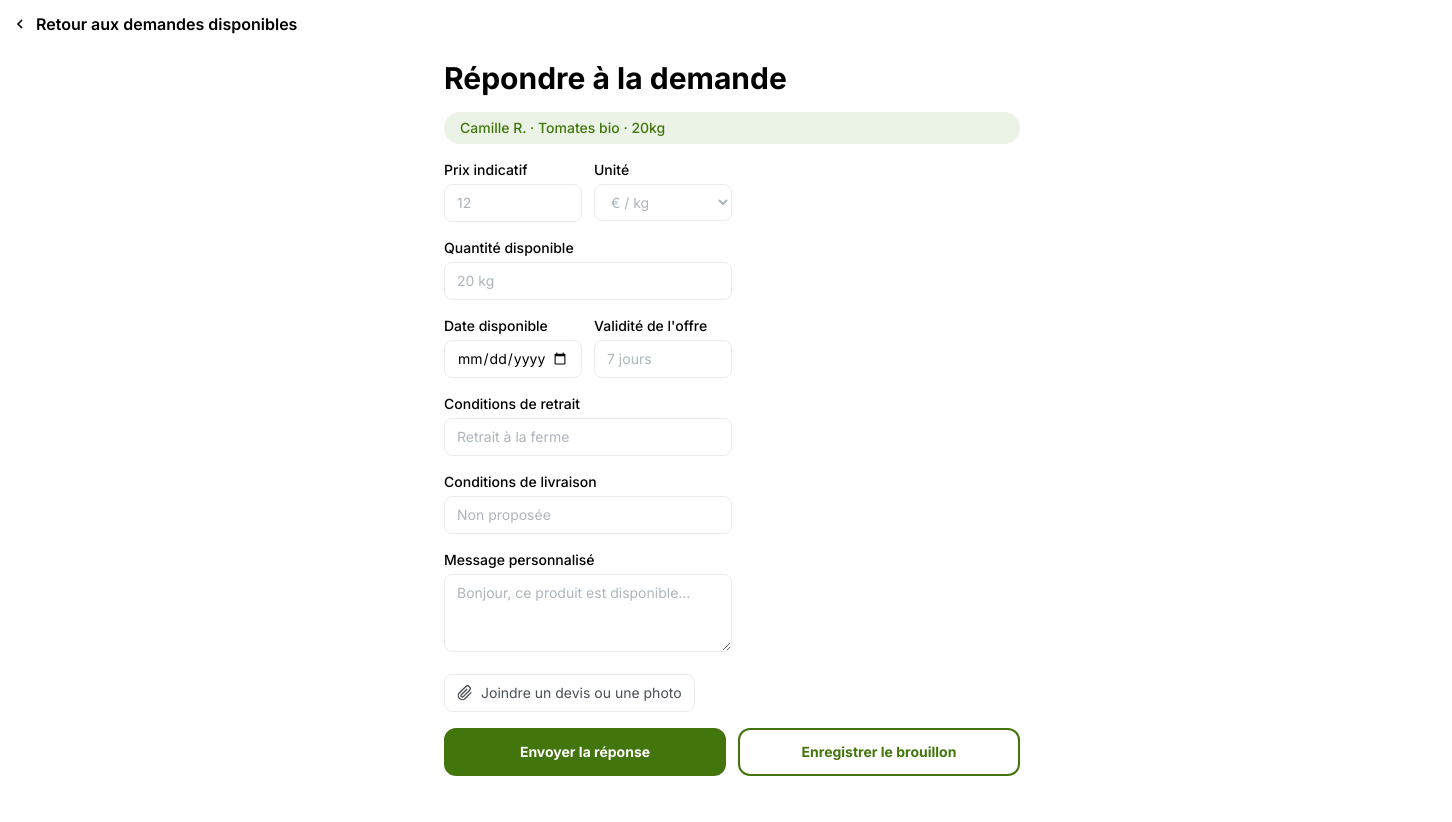
it: ReplyComponent › refuse un nombre mal saisi sans appeler le back
In the text box labelled "Message personnalisé": (588, 613) [444,574,732,652], type "Oui"
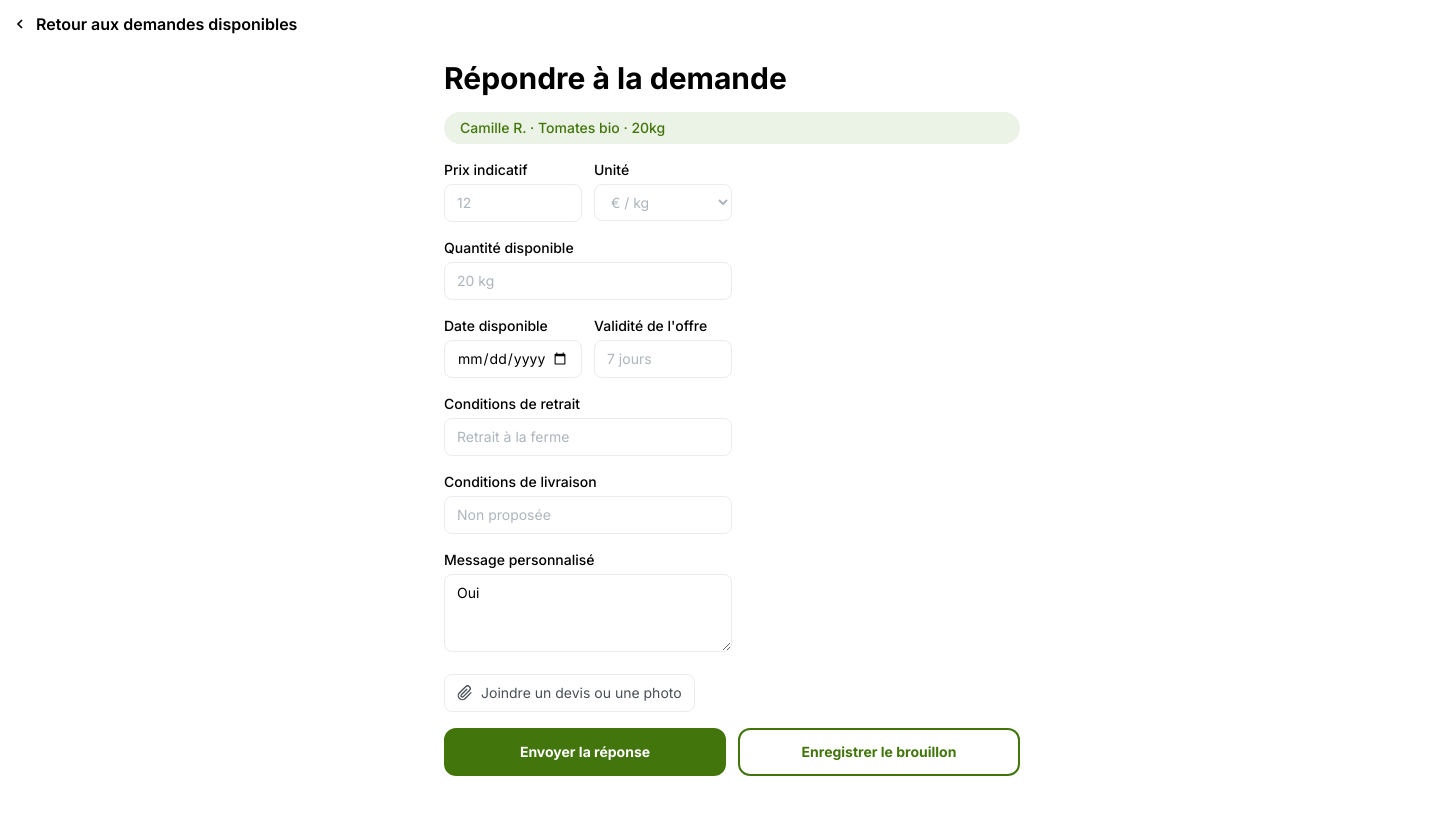
In the field labelled "Prix indicatif": (513, 203) [444,184,582,222], type "douze"
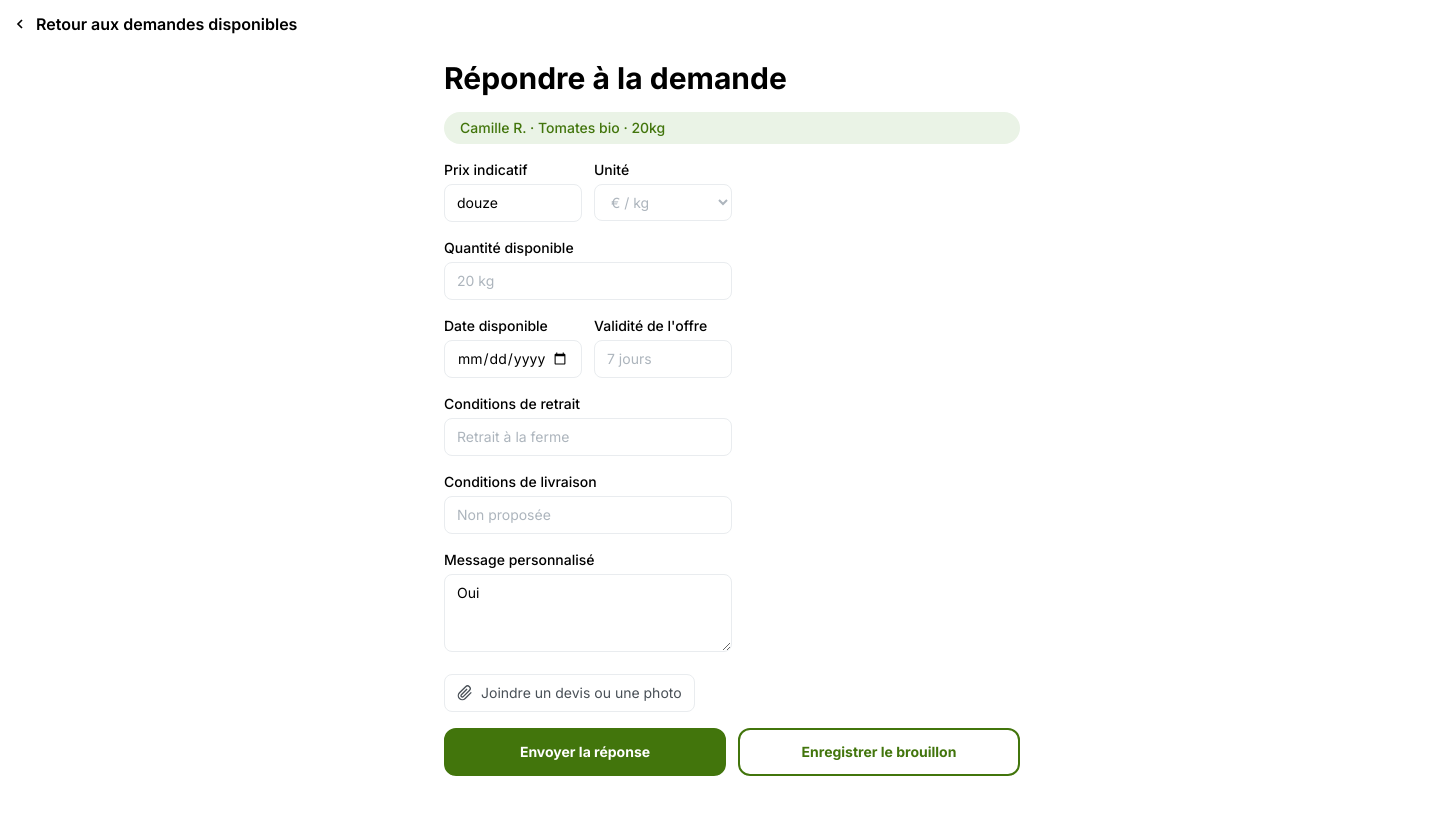
Click the button "Envoyer la réponse": click(585, 752) [444,728,726,776]
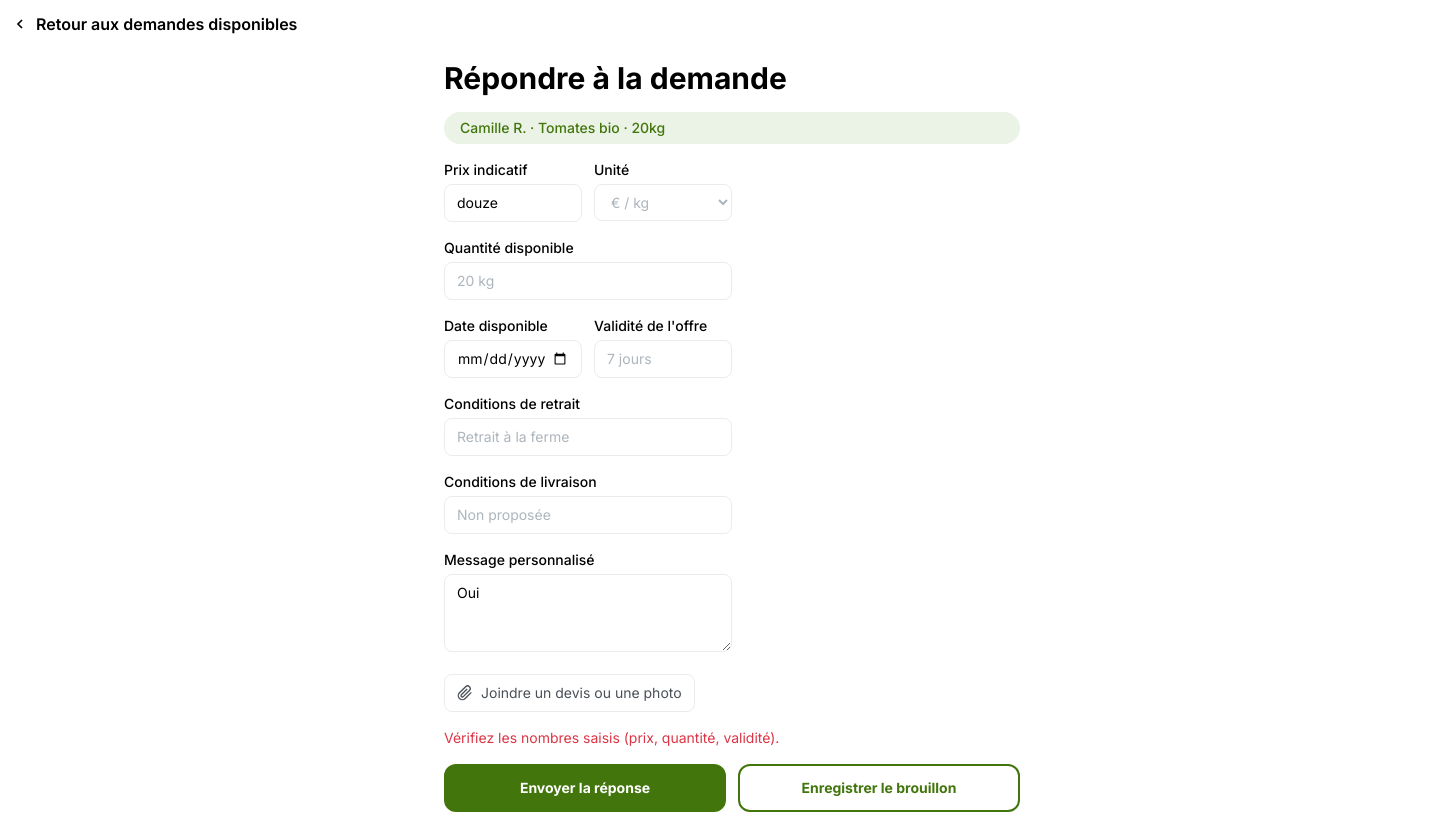
expect the text "Vérifiez les nombres saisis" is shown: met, box [444,729,779,746]
